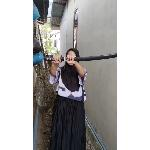Pedang: (42, 50, 118, 66)
